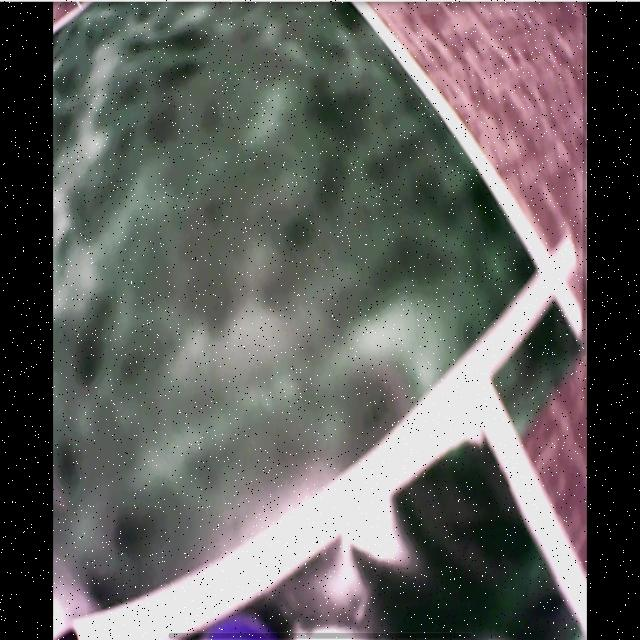ball: (211, 618, 275, 640)
